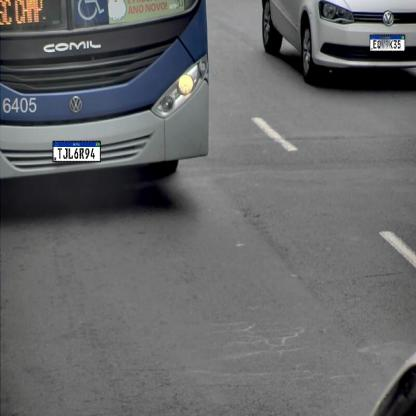PlacaM: (52, 141, 101, 162), (370, 35, 405, 51)
